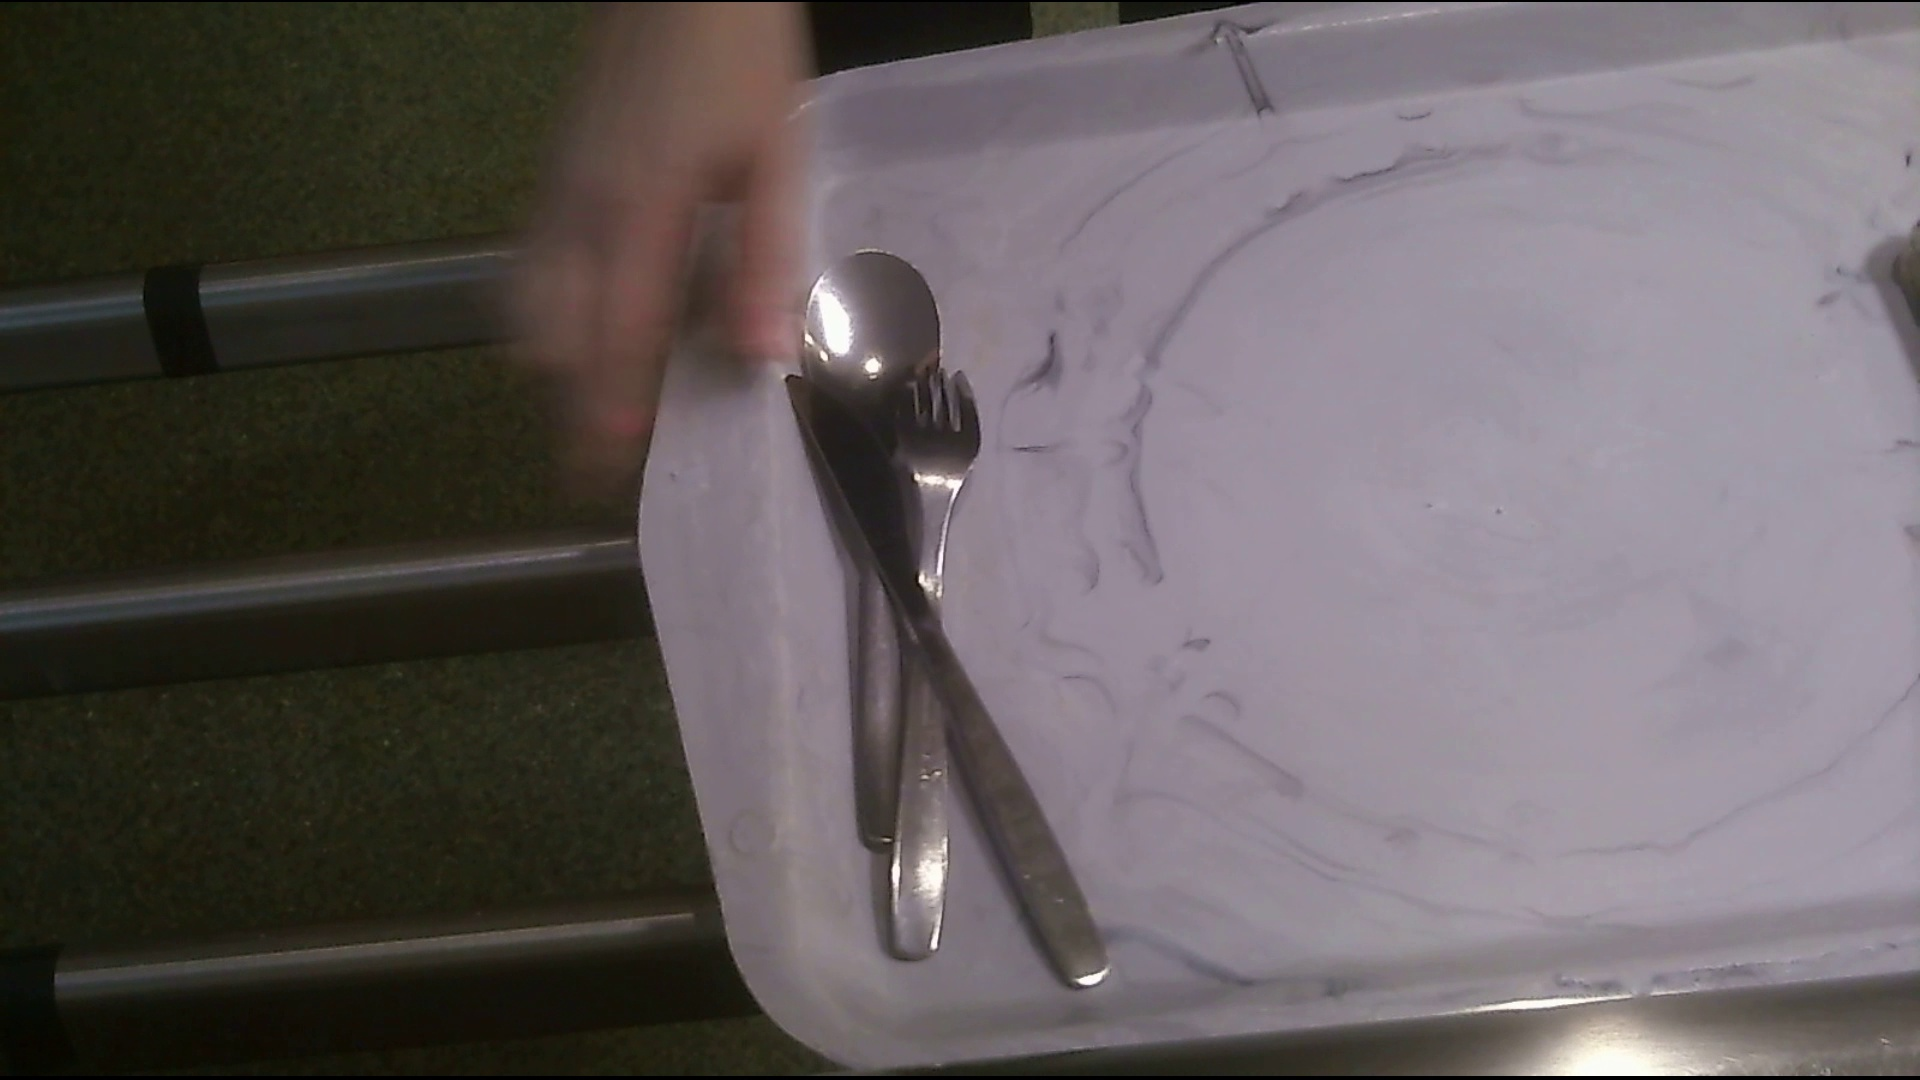cutlery: (804, 247, 1112, 997)
